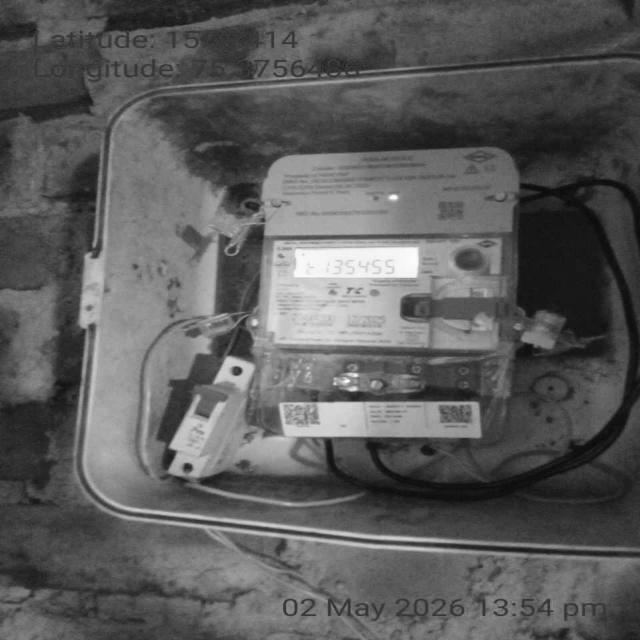meter: (258, 152, 512, 349)
